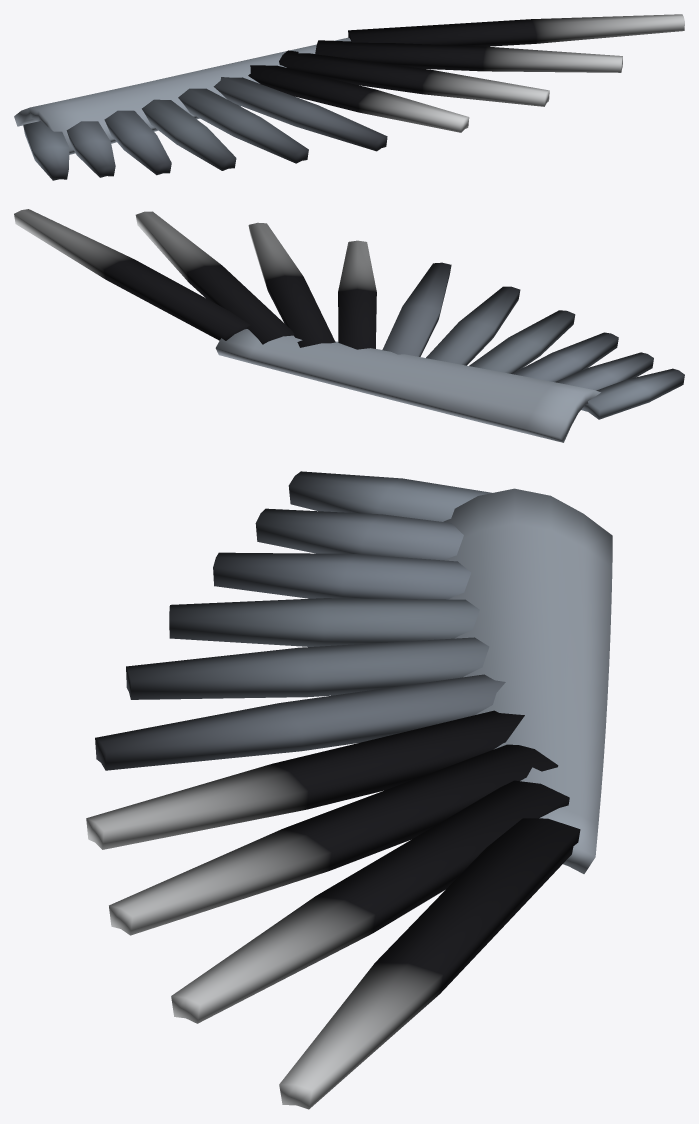
File: Kamome_Wing.fbx
The picture shows the model from 3 angles, top to bottom: view 1: azimuth 30°, elevation 25°; view 2: azimuth 150°, elevation 25°; view 3: azimuth 270°, elevation 25°; orthographic projection. The views are drawn at different scales.
Parts seen in each view (by area): view 1: Kamome_Wing; view 2: Kamome_Wing; view 3: Kamome_Wing.
Part boxes in pixels (x1,y1,x2,y2): Kamome_Wing: (14, 14, 684, 180); Kamome_Wing: (14, 209, 684, 442); Kamome_Wing: (86, 471, 612, 1109).
Bounding box in the file's own units: 14.89 × 0.7082 × 5.35.
